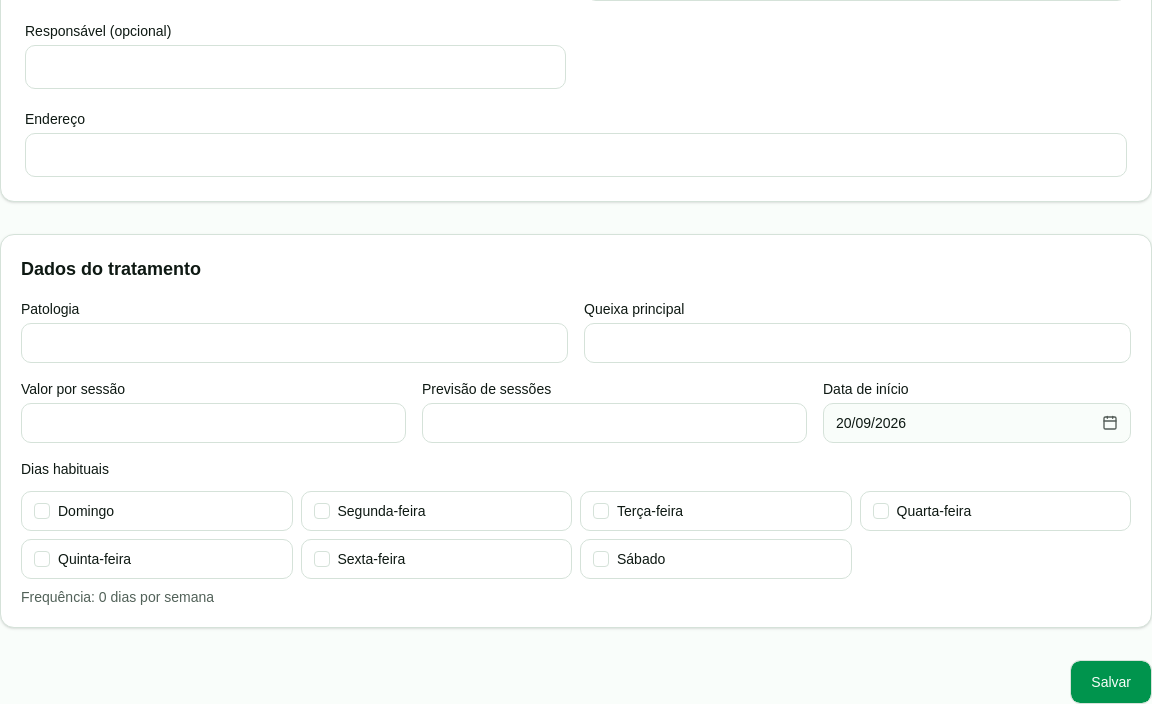
Test: PatientForm › associa mensagens de validação aos campos inválidos
The image size is (1152, 704).
(page scrolled)
Step 1. Click the button "Salvar" → (1111, 682), box [1070,660,1151,703]
(page scrolled)
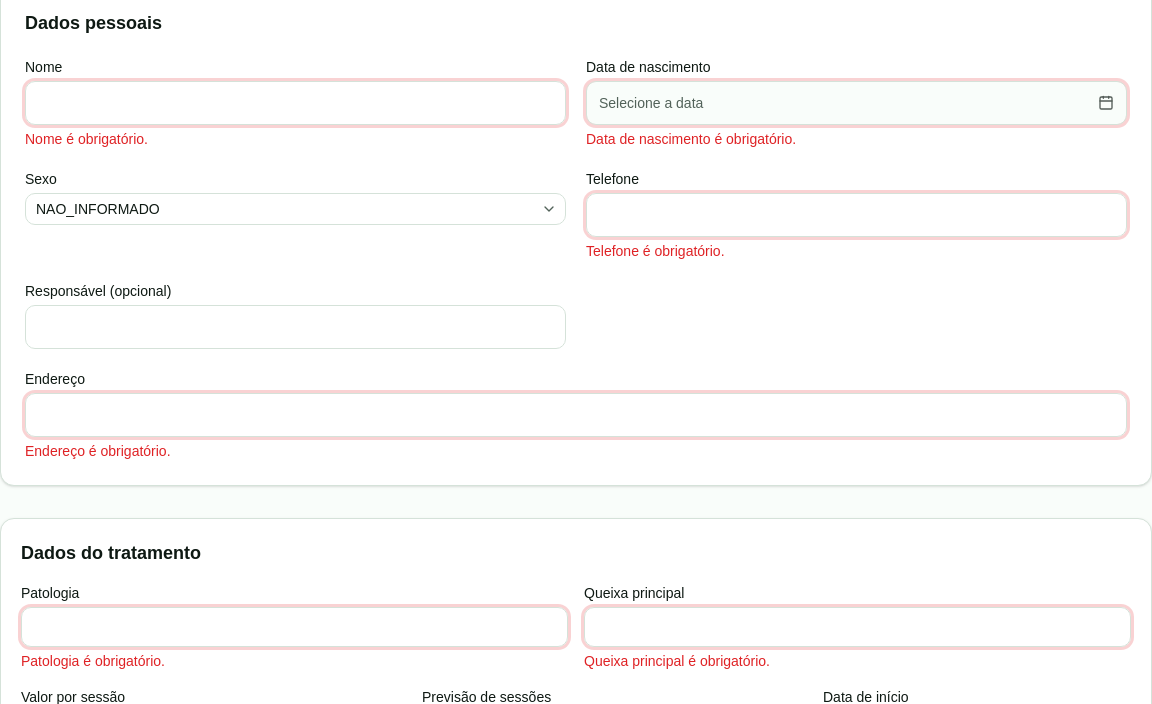
Now the text "Nome é obrigatório." is shown, box [25,131,148,147]
